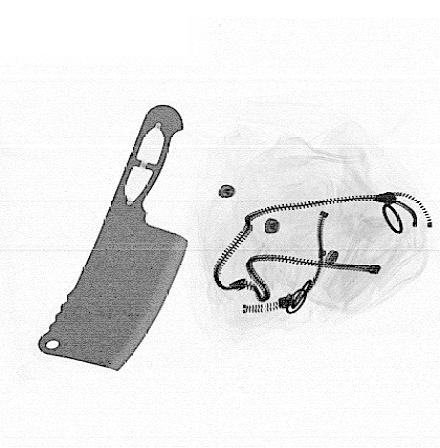Knife: (34, 102, 192, 372)
